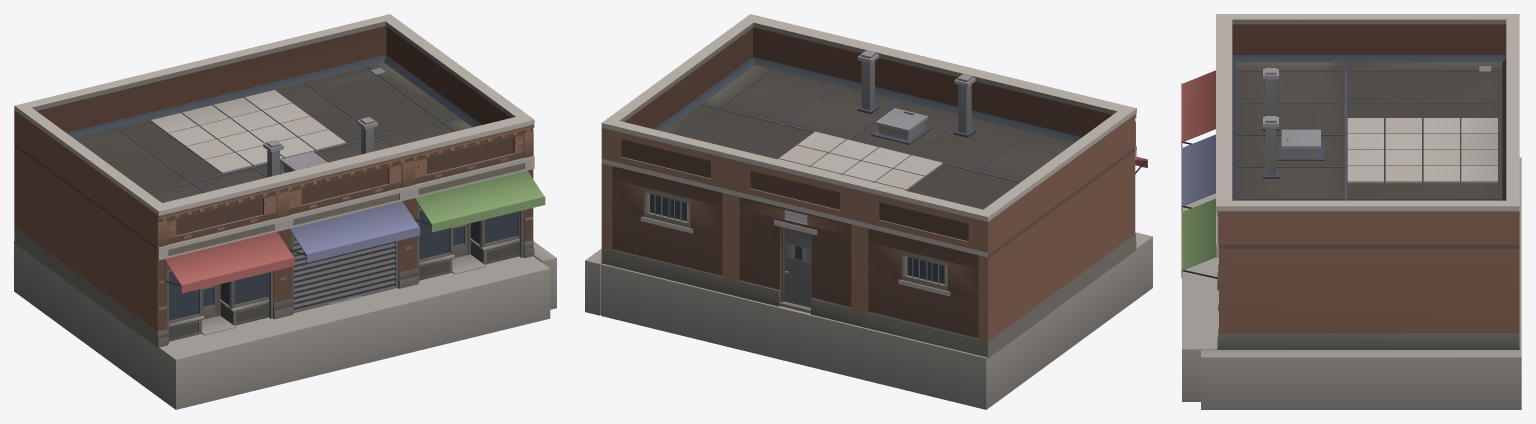
The model's file is shops.glb.
3 renders of one model, left to right at view 1: azimuth 30°, elevation 25°; view 2: azimuth 150°, elevation 25°; view 3: azimuth 270°, elevation 25°, orthographic. The views are drawn at different scales.
Parts seen in each view (by area): view 1: shops; view 2: shops; view 3: shops.
Part boxes in pixels (bbox=[...]): shops: bbox=[14, 14, 556, 409]; shops: bbox=[585, 14, 1152, 409]; shops: bbox=[1181, 14, 1521, 409].
Size of the model in its own units: 12.48 by 6.16 by 8.98.
